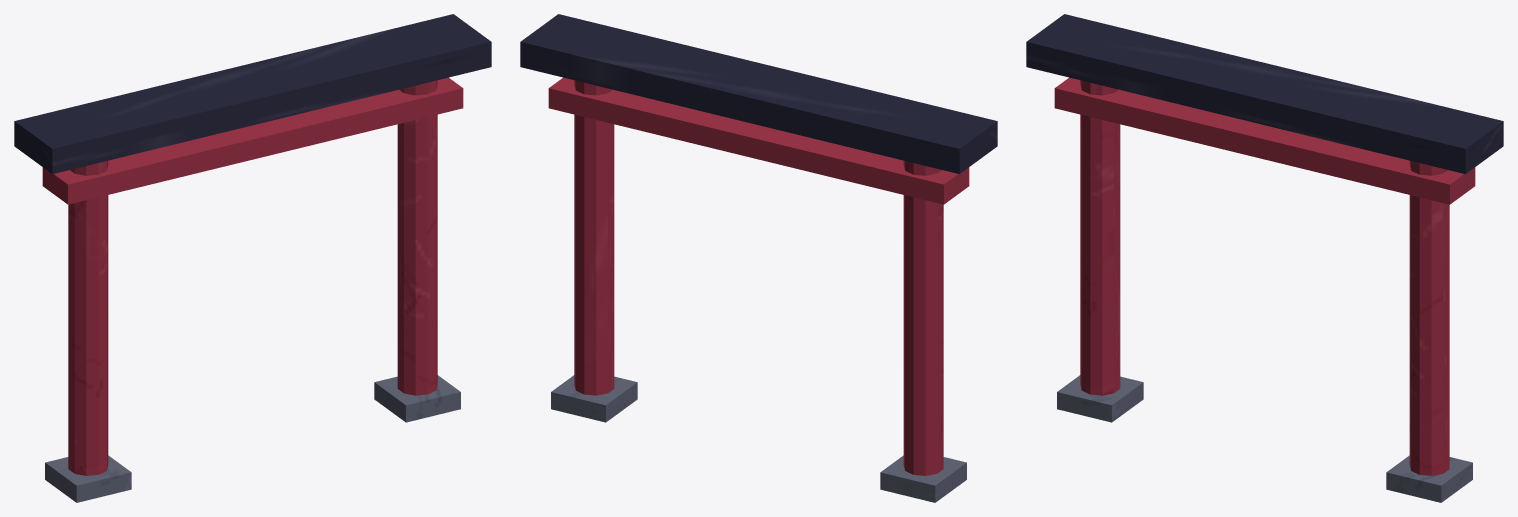
The model's file is dojo_torii_signature_lod1.glb.
3 views of the same model, side by side, from view 1: azimuth 30°, elevation 25°; view 2: azimuth 150°, elevation 25°; view 3: azimuth 330°, elevation 25° (orthographic).
Visible parts, largest first — view 1: dojo_torii_signature_004, dojo_torii_signature_005, dojo_torii_signature_000, dojo_torii_signature_002, dojo_torii_signature_003, dojo_torii_signature_001; view 2: dojo_torii_signature_004, dojo_torii_signature_005, dojo_torii_signature_000, dojo_torii_signature_002, dojo_torii_signature_003, dojo_torii_signature_001; view 3: dojo_torii_signature_004, dojo_torii_signature_005, dojo_torii_signature_002, dojo_torii_signature_000, dojo_torii_signature_001, dojo_torii_signature_003.
Part boxes in pixels (x1=…): dojo_torii_signature_004: x1=14, y1=14, x2=491, y2=173; dojo_torii_signature_005: x1=42, y1=77, x2=463, y2=204; dojo_torii_signature_000: x1=68, y1=160, x2=108, y2=475; dojo_torii_signature_002: x1=397, y1=80, x2=437, y2=395; dojo_torii_signature_003: x1=374, y1=375, x2=460, y2=422; dojo_torii_signature_001: x1=45, y1=455, x2=131, y2=502; dojo_torii_signature_004: x1=520, y1=14, x2=997, y2=173; dojo_torii_signature_005: x1=548, y1=77, x2=969, y2=204; dojo_torii_signature_000: x1=903, y1=160, x2=943, y2=475; dojo_torii_signature_002: x1=574, y1=80, x2=614, y2=395; dojo_torii_signature_003: x1=551, y1=375, x2=637, y2=422; dojo_torii_signature_001: x1=880, y1=455, x2=966, y2=502; dojo_torii_signature_004: x1=1026, y1=14, x2=1503, y2=173; dojo_torii_signature_005: x1=1054, y1=77, x2=1475, y2=204; dojo_torii_signature_002: x1=1409, y1=160, x2=1449, y2=475; dojo_torii_signature_000: x1=1080, y1=80, x2=1120, y2=395; dojo_torii_signature_001: x1=1057, y1=375, x2=1143, y2=422; dojo_torii_signature_003: x1=1386, y1=455, x2=1472, y2=502.
Size of the model in its own units: 8 by 6.37 by 1.2.
3 materials, 3 textured.
